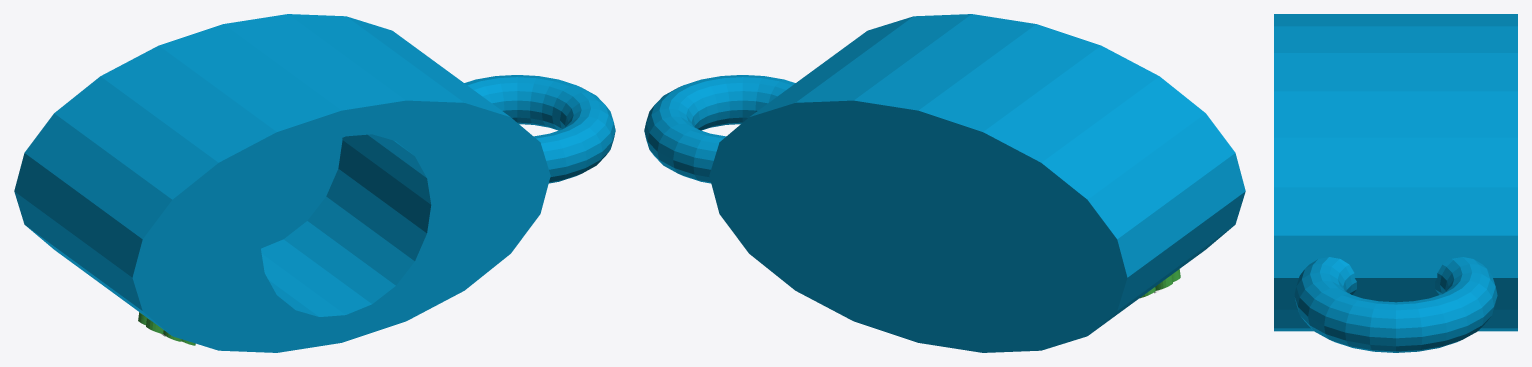
The model's file is tinker.obj.
3 views of the same model, side by side, from view 1: azimuth 30°, elevation 25°; view 2: azimuth 150°, elevation 25°; view 3: azimuth 270°, elevation 25° (orthographic). The views are drawn at different scales.
Parts seen in each view (by area): view 1: group_0_40919; view 2: group_0_40919; view 3: group_0_40919.
Boxes of the visible parts, x1,y1,x2,y2 form: group_0_40919: (14, 14, 615, 352); group_0_40919: (644, 14, 1245, 352); group_0_40919: (1274, 14, 1517, 352).
Size of the model in its own units: 62 by 31 by 24.
